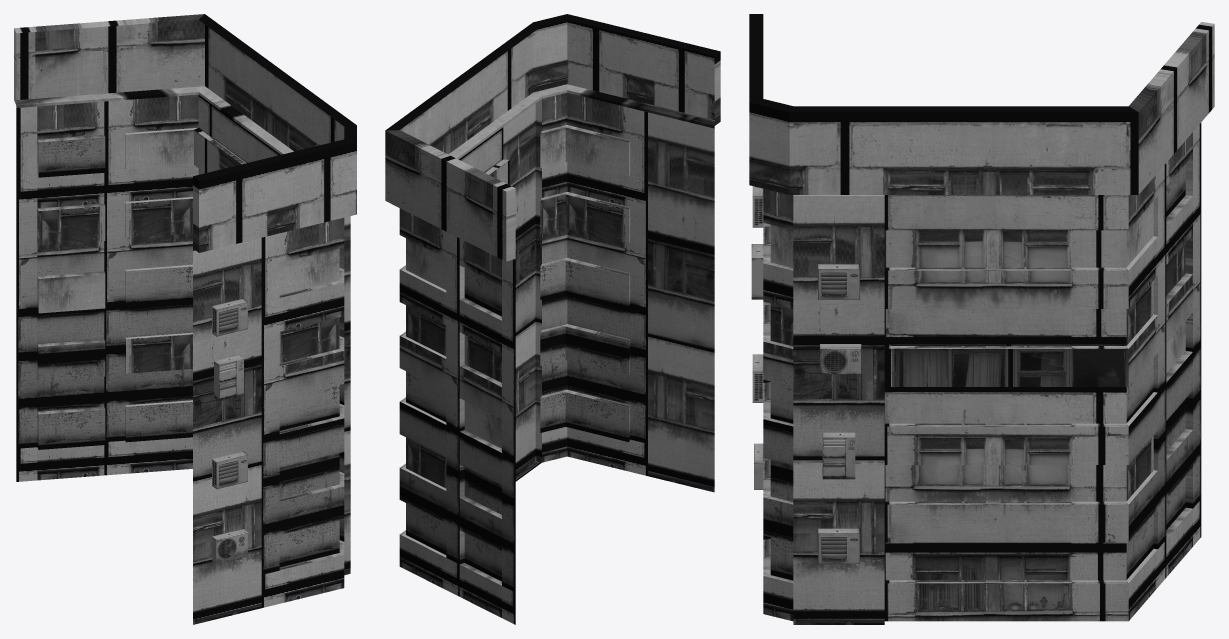
The model's file is SWAG.fbx.
3 renders of one model, left to right at view 1: azimuth 30°, elevation 25°; view 2: azimuth 150°, elevation 25°; view 3: azimuth 270°, elevation 25°, orthographic. The views are drawn at different scales.
Visible parts, largest first — view 1: alley_building_2; view 2: alley_building_2; view 3: alley_building_2.
Boxes of the visible parts, box(x1,y1,x2,y2) form: alley_building_2: box(14, 14, 356, 624); alley_building_2: box(385, 14, 720, 624); alley_building_2: box(749, 14, 1214, 624).
Size of the model in its own units: 666 by 1588 by 1300.
